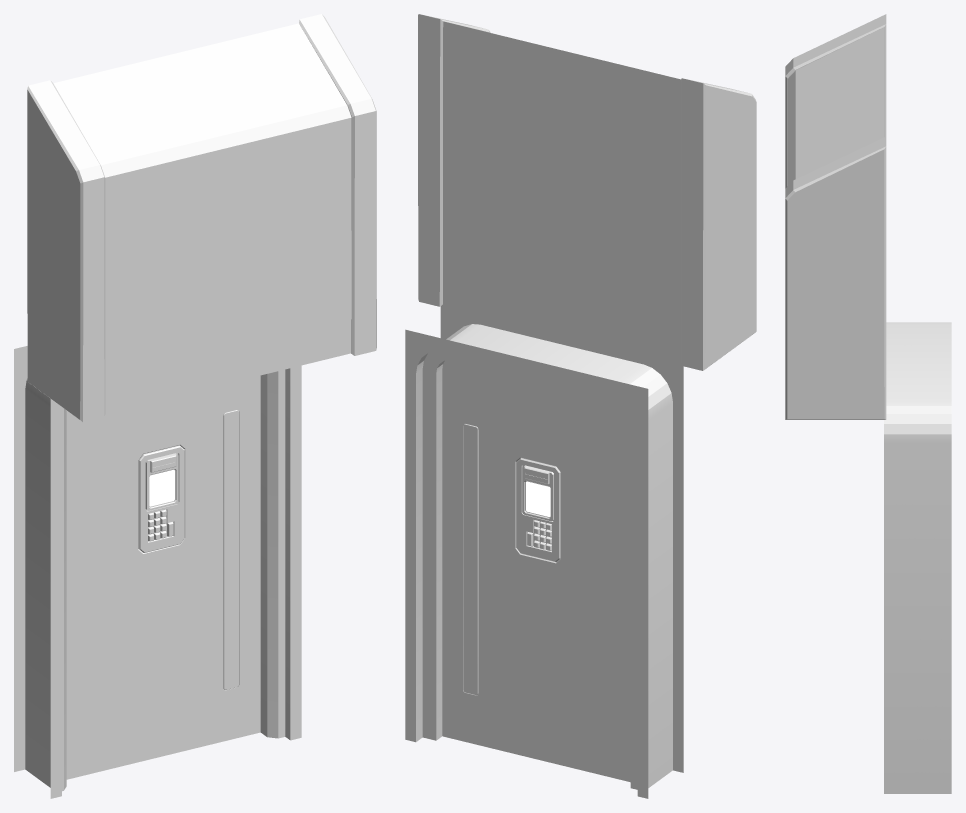
The model's file is KB3D_FTW_PropSingleDoor_B_grp.glb.
3 views of the same model, side by side, from view 1: azimuth 30°, elevation 25°; view 2: azimuth 150°, elevation 25°; view 3: azimuth 270°, elevation 25° (orthographic). The views are drawn at different scales.
Visible parts, largest first — view 1: KB3D_FTW_PropSingleDoor_B_Frame, KB3D_FTW_PropSingleDoor_B_Door; view 2: KB3D_FTW_PropSingleDoor_B_Frame, KB3D_FTW_PropSingleDoor_B_Door; view 3: KB3D_FTW_PropSingleDoor_B_Frame.
Boxes of the visible parts, <box> form: KB3D_FTW_PropSingleDoor_B_Frame: <box>14,14,376,798</box>; KB3D_FTW_PropSingleDoor_B_Door: <box>66,375,260,779</box>; KB3D_FTW_PropSingleDoor_B_Frame: <box>405,14,756,798</box>; KB3D_FTW_PropSingleDoor_B_Door: <box>442,360,630,782</box>; KB3D_FTW_PropSingleDoor_B_Frame: <box>785,14,951,793</box>.
Bounding box in the file's own units: 1.73 × 4 × 0.9103.
9 materials, 1 textured.
